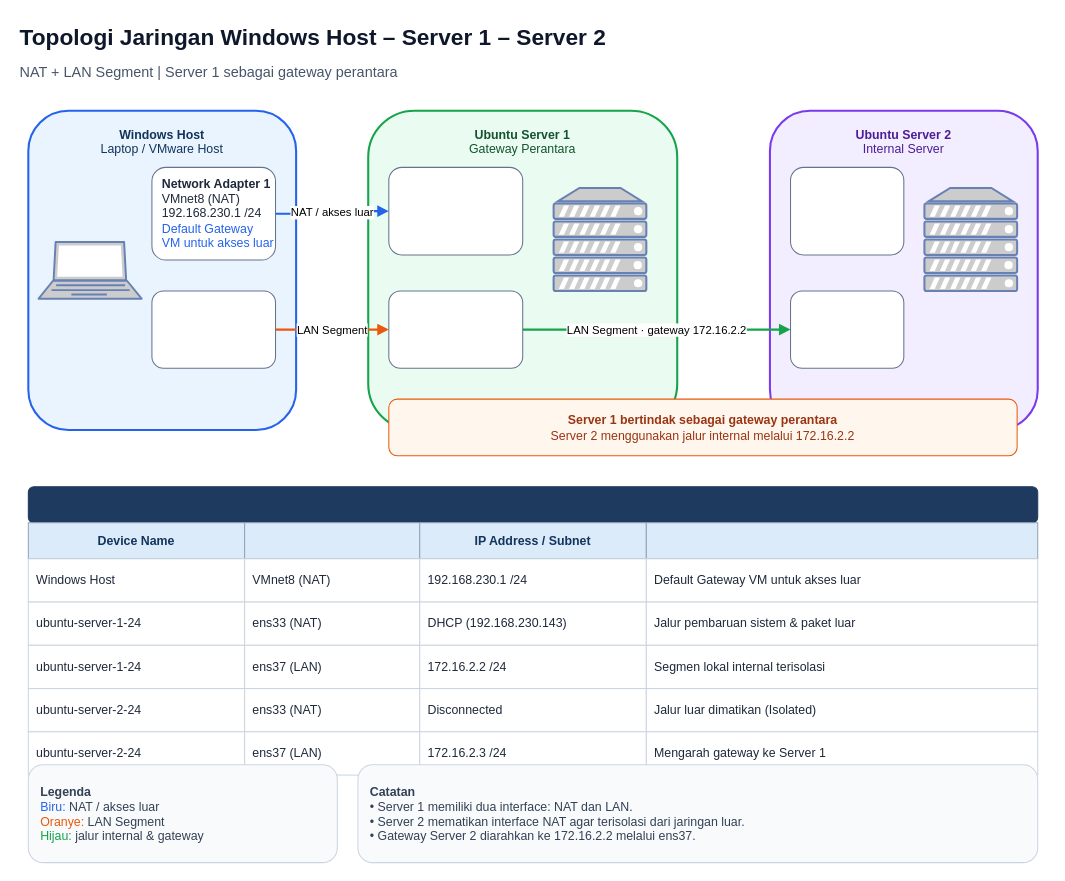
The diagram is 1065 pixels wide and 881 high, and some of its shapes have lost their labels. The centre of each missing label's shape, as x and y in pixels:
ens33 (NAT) DHCP: 192.168.230.143 Update sistem & paket luar: the point at 455,210
ens33 (NAT) Disconnected Jalur luar dimatikan: the point at 846,210
ens37 (LAN) 172.16.2.2 /24 Gateway internal / isolated: the point at 455,329
ens37 (LAN) 172.16.2.3 /24 Gateway diarahkan ke Server 1: the point at 846,329
Interface: the point at 332,540
Network Adapter 2 LAN Segment Segmen internal ke Server 1: the point at 213,329
Tabel Pengamatan IP / Interface: the point at 532,504
VLAN / Note: the point at 841,540
